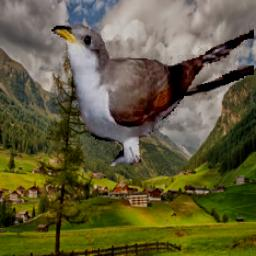Cuckoo: (53, 23, 255, 166)
